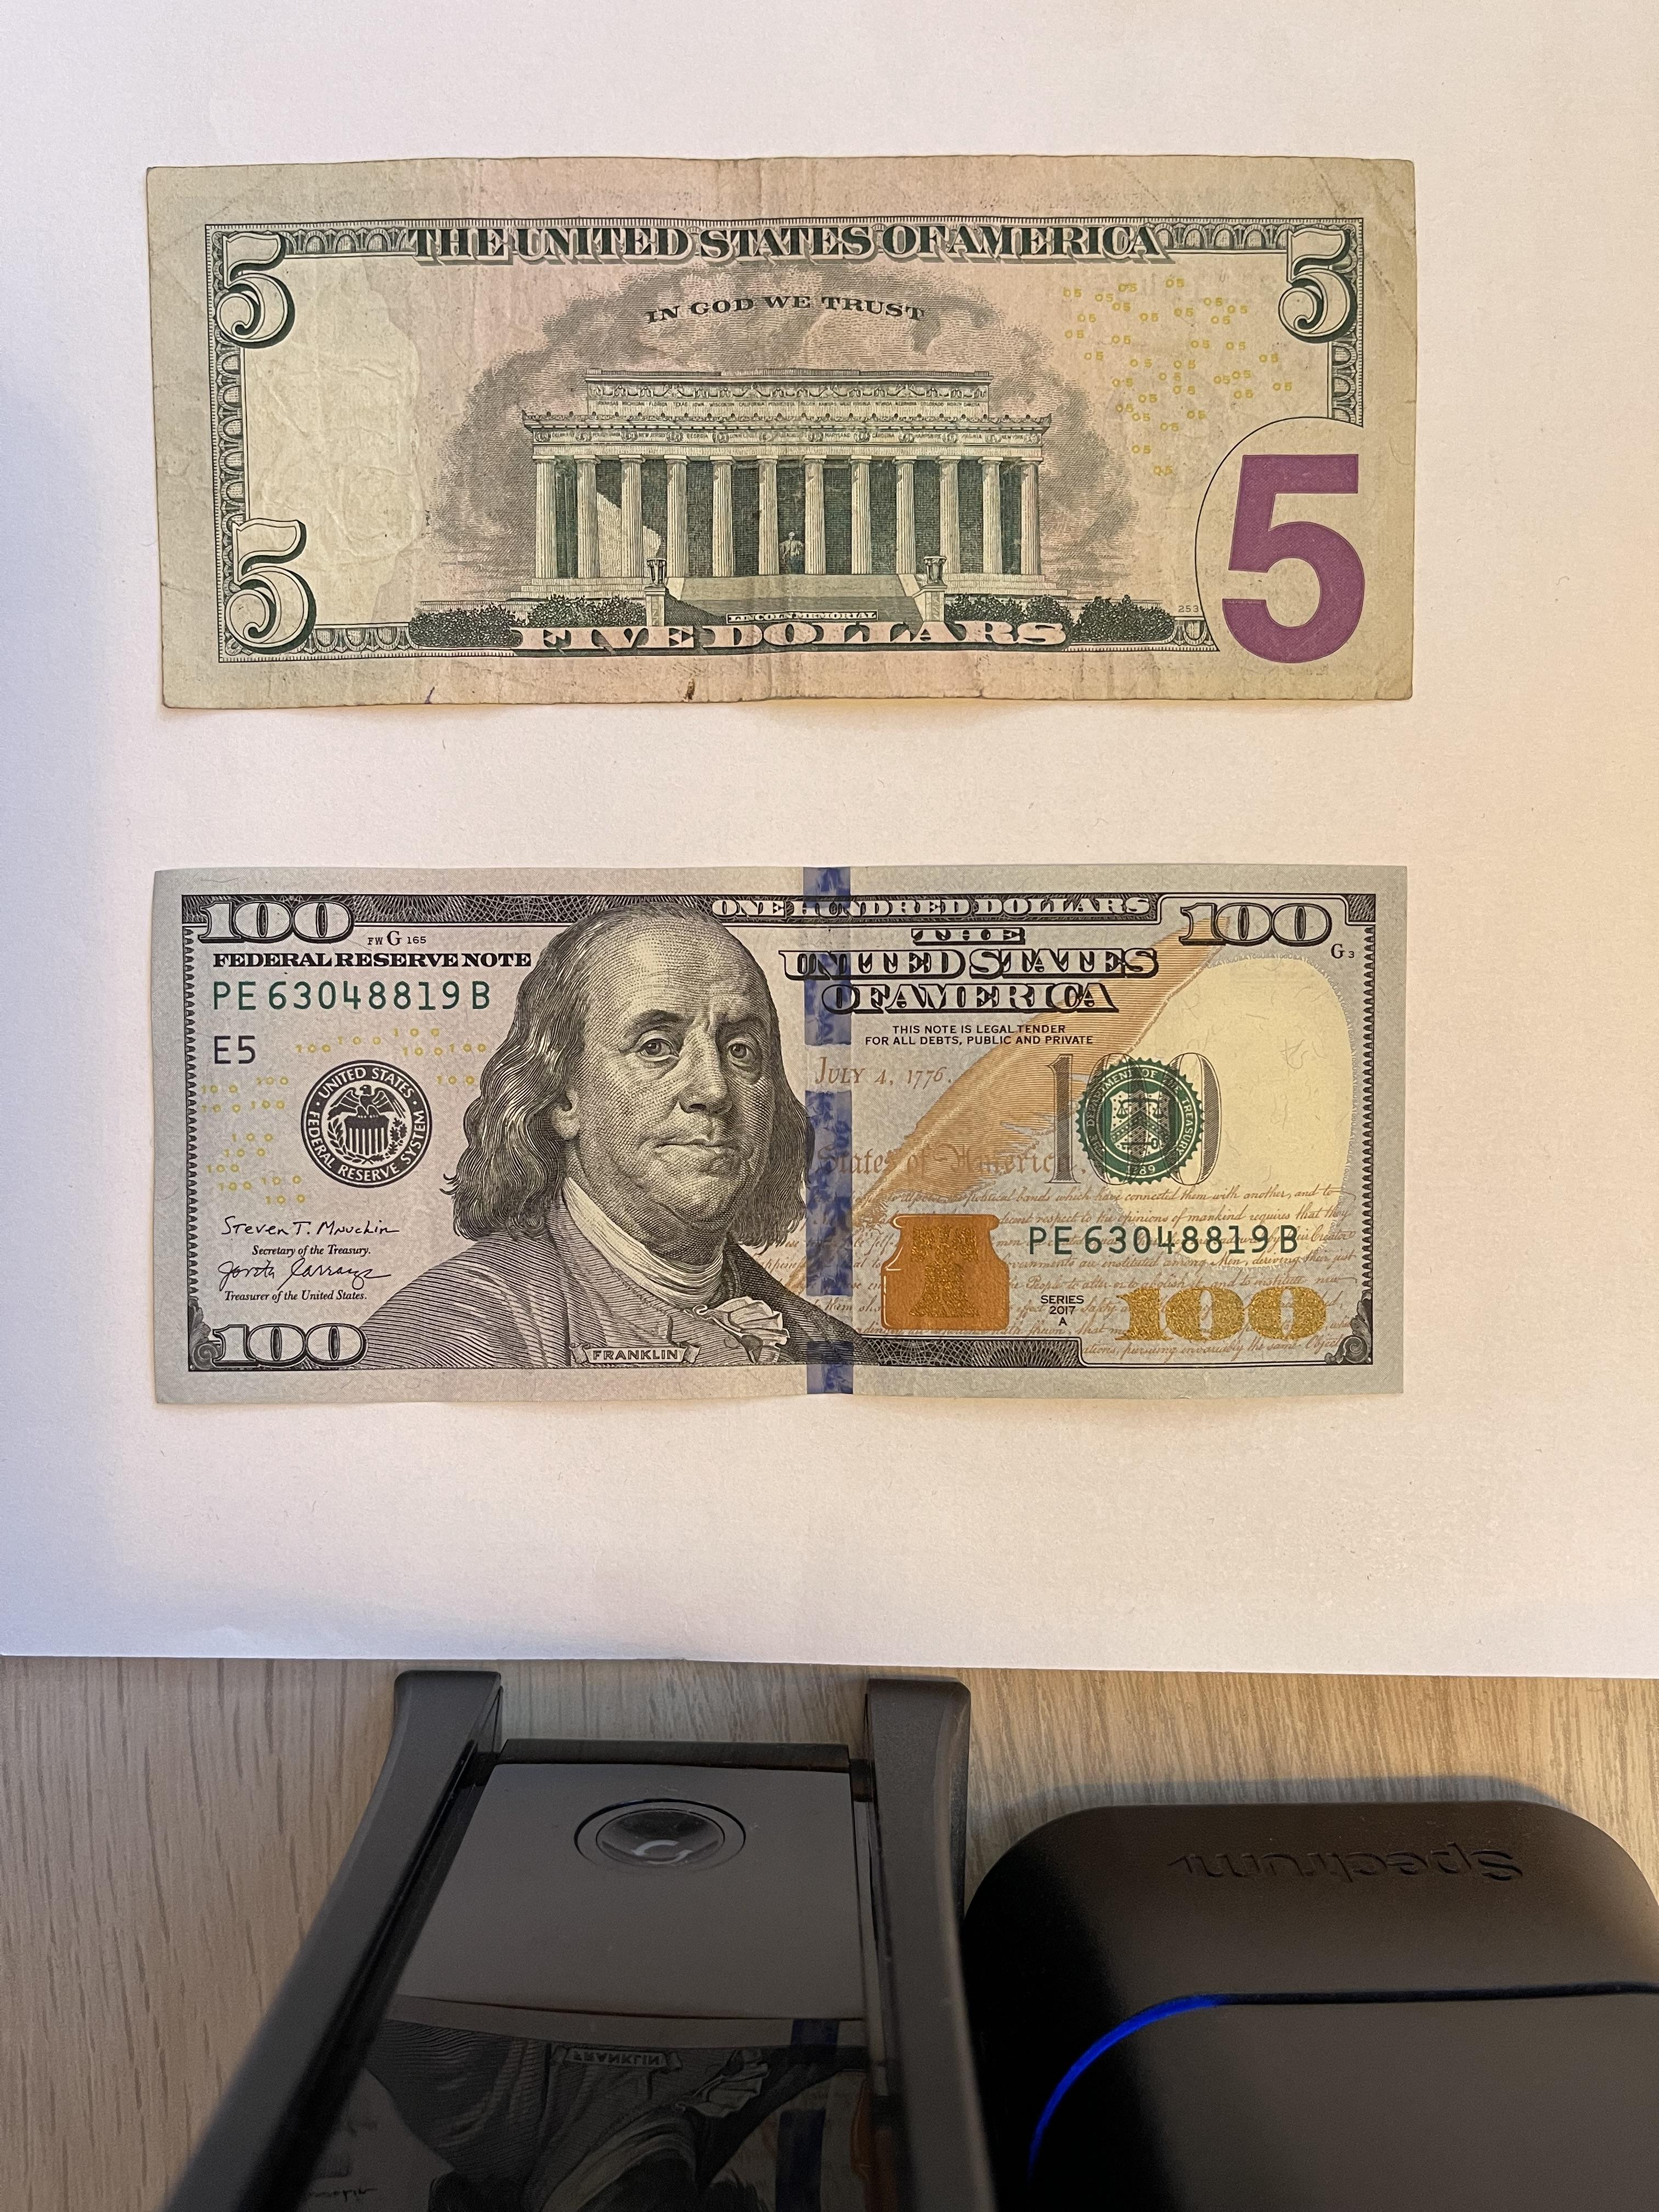FiveBill: (143, 148, 1419, 714)
HundredBill: (146, 855, 1410, 1411)
